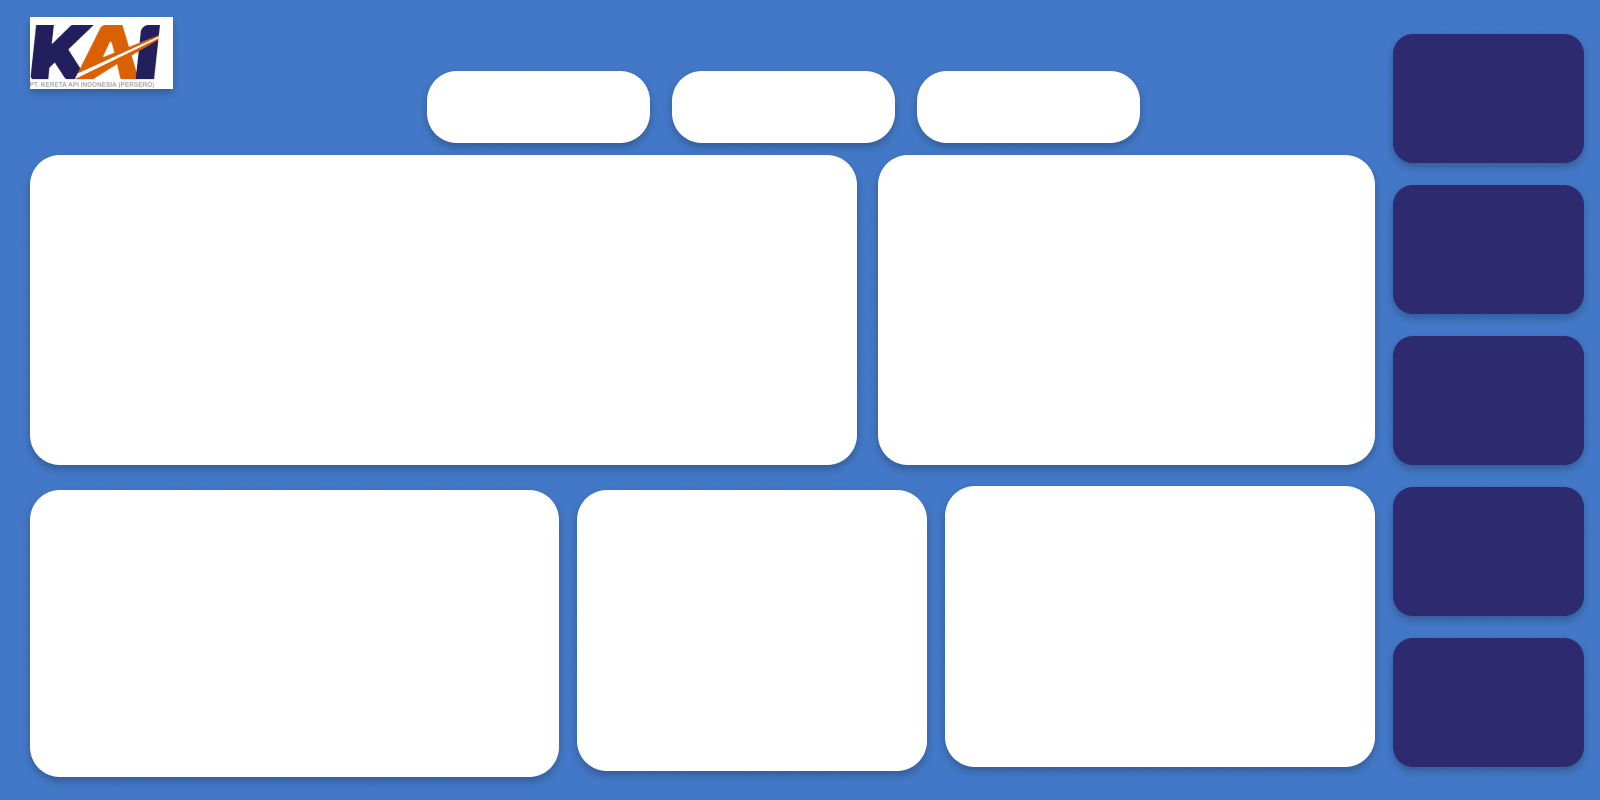

The dashboard page shown, as its layout file describes it:
{"tool":"tableau","page":{"name":"Blue","canvas":[1600,800],"ordinal":0},"visuals":[{"type":"image","param":"Image/Fika-KRL.png","box":[8,8,1584,784]},{"type":"text","box":[214,20,1135,56]},{"type":"worksheet","title":"Total Station","mark":"Automatic","box":[1381,47,173,118]},{"type":"filter","title":"Satellite Map","param":"[federated.0hwxtfy079jtod12hao2w0wkrwto].[none:route:nk]","box":[933,83,180,65]},{"type":"filter","title":"Satellite Map","param":"[federated.0hwxtfy079jtod12hao2w0wkrwto].[none:station_name:nk]","box":[456,84,182,62]},{"type":"filter","title":"Satellite Map","param":"[federated.0hwxtfy079jtod12hao2w0wkrwto].[none:line:nk]","box":[698,85,174,62]},{"type":"text","box":[52,100,137,30]},{"type":"blank","box":[53,101,43,42]},{"type":"dashboard-object","box":[86,119,34,43]},{"type":"dashboard-object","box":[53,120,39,43]},{"type":"dashboard-object","box":[150,120,31,40]},{"type":"dashboard-object","box":[120,121,28,40]},{"type":"worksheet","title":"Satellite Map","mark":"Automatic","box":[68,166,776,293]},{"type":"worksheet","title":"Station","mark":"Automatic","box":[882,172,467,275]},{"type":"worksheet","title":"Total Line","mark":"Automatic","box":[1387,194,167,119]},{"type":"worksheet","title":"Total Route","mark":"Automatic","box":[1382,341,163,118]},{"type":"worksheet","title":"Total Destination","mark":"Automatic","box":[1395,484,148,123]},{"type":"worksheet","title":"Average Trip Duration by Route ","mark":"Automatic","rows":["trip_duration_minutes"],"cols":["route"],"box":[952,491,395,257]},{"type":"worksheet","title":"Average Trip Duration by Line","mark":"Automatic","rows":["trip_duration_minutes"],"cols":["line"],"box":[62,493,489,266]},{"type":"worksheet","title":"Train Distribution by Time B","mark":"Pie","box":[594,494,322,253]},{"type":"worksheet","title":"Total Train","mark":"Automatic","box":[1385,632,161,122]}]}

Visuals, with their boxes in screenshot pixels (x1, y1, x2, y2), scaled from the page's 1600x800 canvas onto the 1600x800 screenshot:
image: x1=8 y1=8 x2=1592 y2=792
text: x1=214 y1=20 x2=1349 y2=76
"Total Station" worksheet: x1=1381 y1=47 x2=1554 y2=165
"Satellite Map" filter: x1=933 y1=83 x2=1113 y2=148
"Satellite Map" filter: x1=456 y1=84 x2=638 y2=146
"Satellite Map" filter: x1=698 y1=85 x2=872 y2=147
text: x1=52 y1=100 x2=189 y2=130
blank: x1=53 y1=101 x2=96 y2=143
dashboard-object: x1=86 y1=119 x2=120 y2=162
dashboard-object: x1=53 y1=120 x2=92 y2=163
dashboard-object: x1=150 y1=120 x2=181 y2=160
dashboard-object: x1=120 y1=121 x2=148 y2=161
"Satellite Map" worksheet: x1=68 y1=166 x2=844 y2=459
"Station" worksheet: x1=882 y1=172 x2=1349 y2=447
"Total Line" worksheet: x1=1387 y1=194 x2=1554 y2=313
"Total Route" worksheet: x1=1382 y1=341 x2=1545 y2=459
"Total Destination" worksheet: x1=1395 y1=484 x2=1543 y2=607
"Average Trip Duration by Route " worksheet: x1=952 y1=491 x2=1347 y2=748
"Average Trip Duration by Line" worksheet: x1=62 y1=493 x2=551 y2=759
"Train Distribution by Time B" worksheet (Pie marks): x1=594 y1=494 x2=916 y2=747
"Total Train" worksheet: x1=1385 y1=632 x2=1546 y2=754
